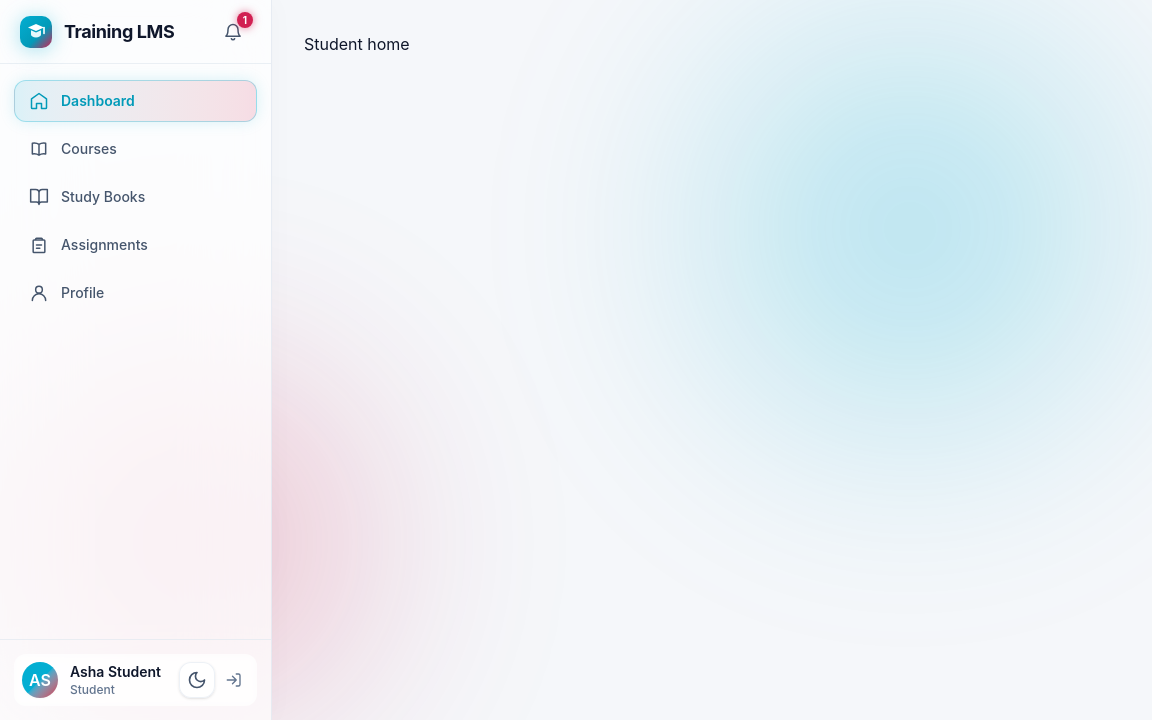
it: notification bell › shows an error with a retry, and never links outside the app
Click the button named "Notifications, 1 unread": click(233, 32) x1=215 y1=14 x2=251 y2=50
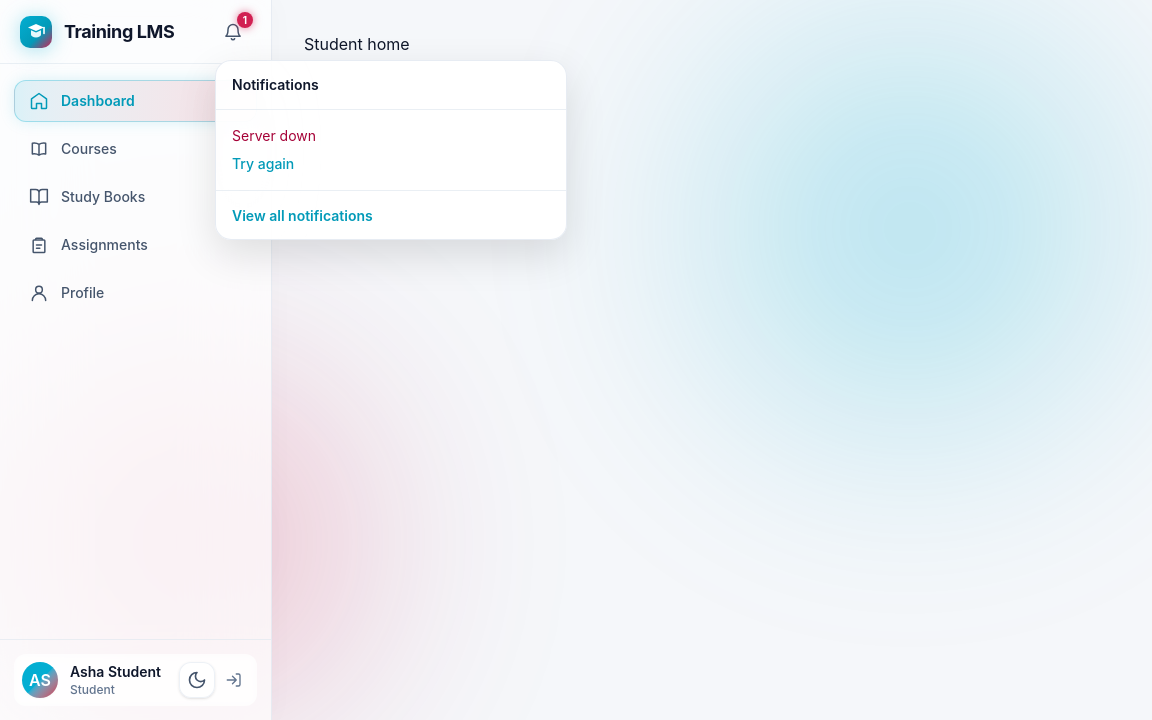
Expected: the message shows "Server down", x1=232 y1=126 x2=316 y2=144
Click the button "Try again": click(263, 164) x1=232 y1=154 x2=294 y2=174
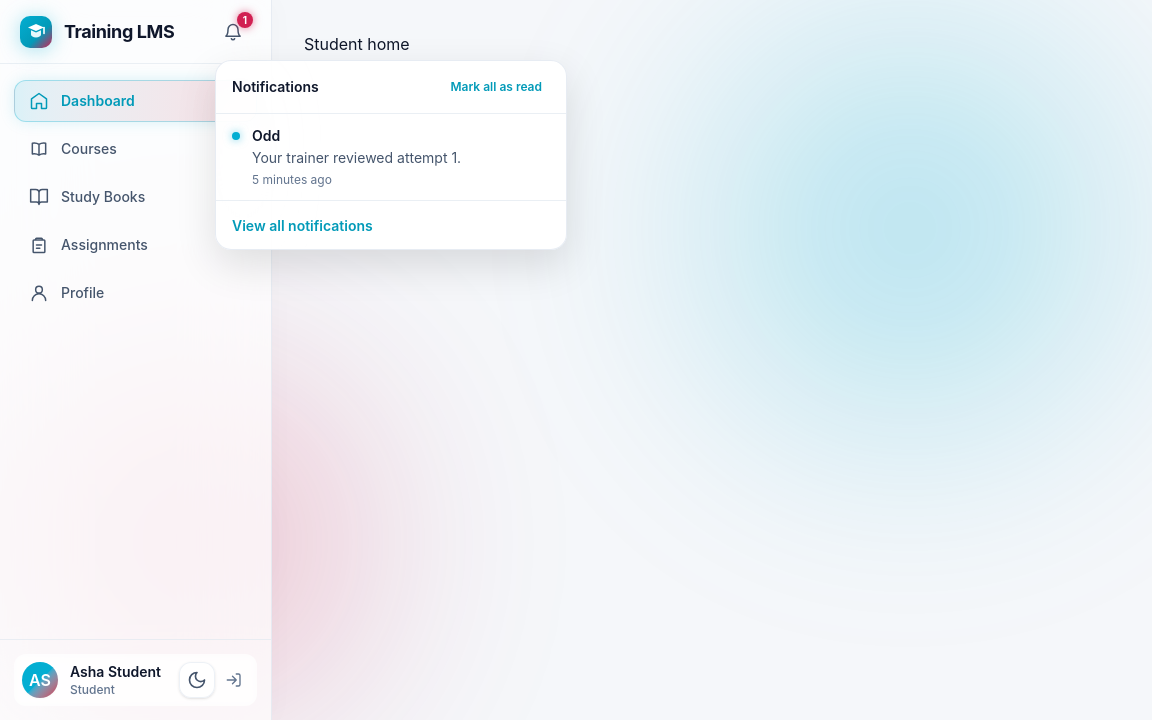
Expected: the text "Odd" is shown, x1=252 y1=126 x2=337 y2=144
